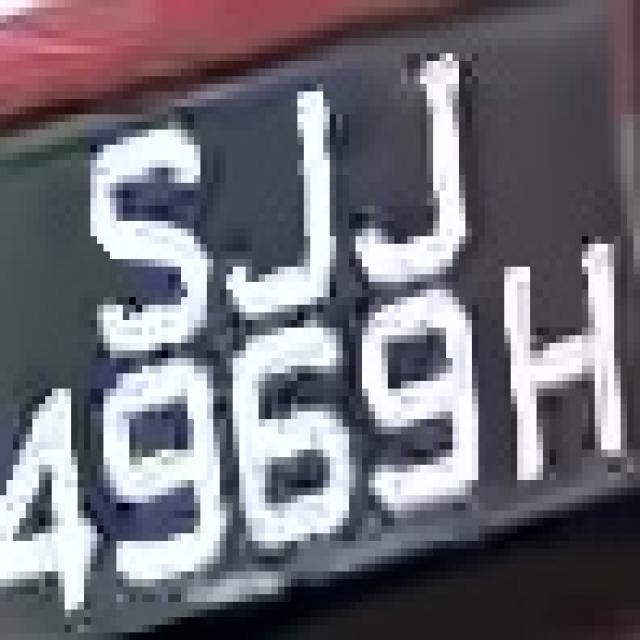4: (7, 343, 104, 617)
6: (233, 312, 375, 548)
9: (97, 335, 239, 602), (349, 290, 485, 534)
H: (484, 206, 620, 495)
J: (317, 30, 472, 305), (226, 46, 336, 350)
S: (58, 99, 220, 366)
